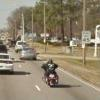Motorcycle: (35, 55, 64, 94)
